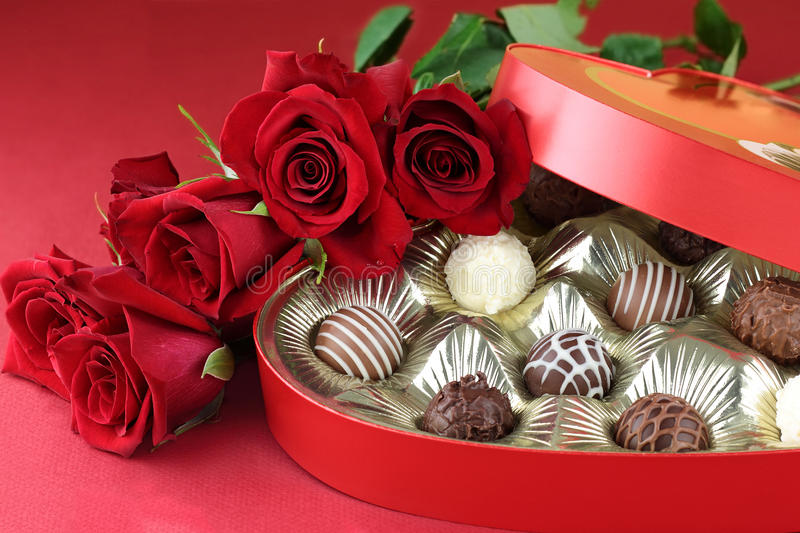RedRose: (219, 44, 400, 274), (108, 178, 282, 329), (49, 313, 225, 462), (383, 74, 524, 241), (0, 237, 113, 396), (95, 154, 179, 239)
